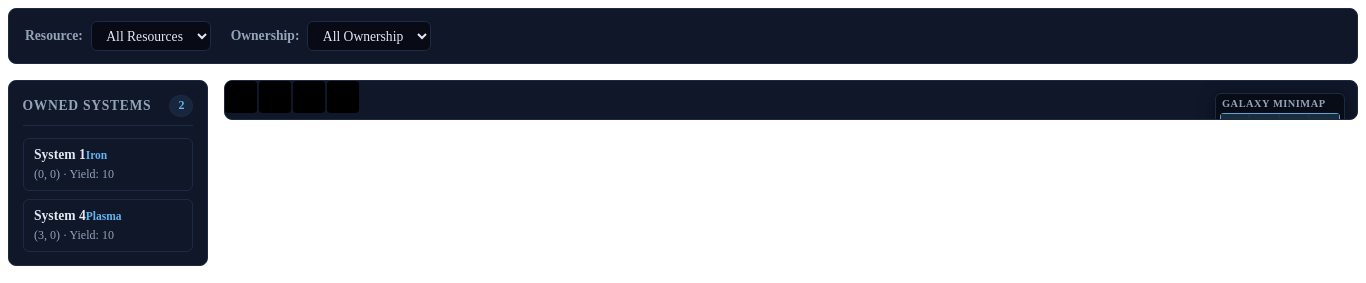
Test: GalaxyMap filtering and integration › resets filters when the Reset button is clicked
Step 1. Select "Energy" in the dropdown with test id "resource-filter" → coordinates (151, 36), box top-left (91, 21), bottom-right (211, 51)
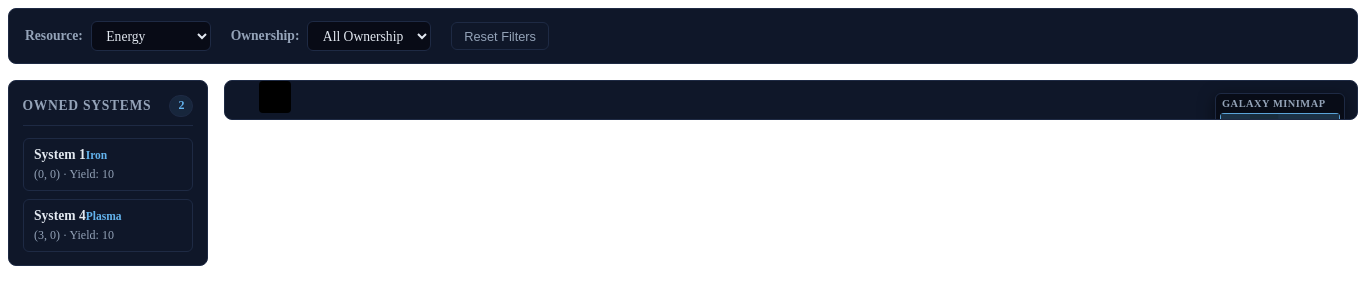
Step 2. Click the button with test id "reset-filters" → coordinates (500, 36), box top-left (451, 22), bottom-right (549, 50)
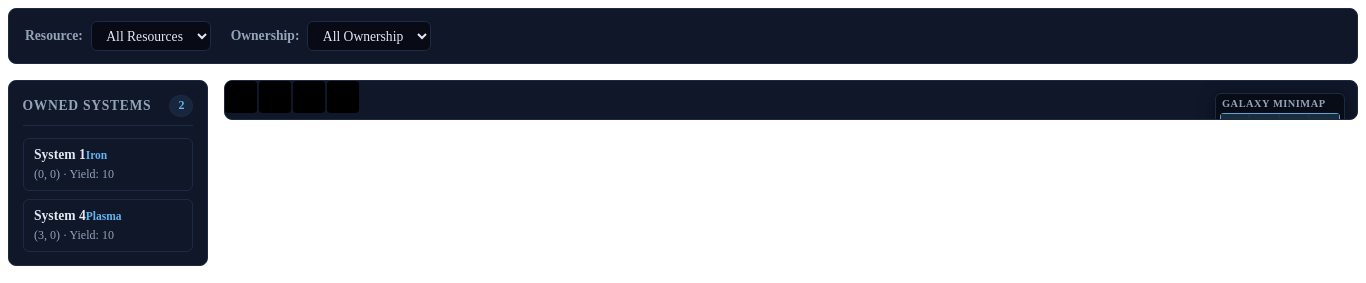
Result: the button with test id "reset-filters" is gone
